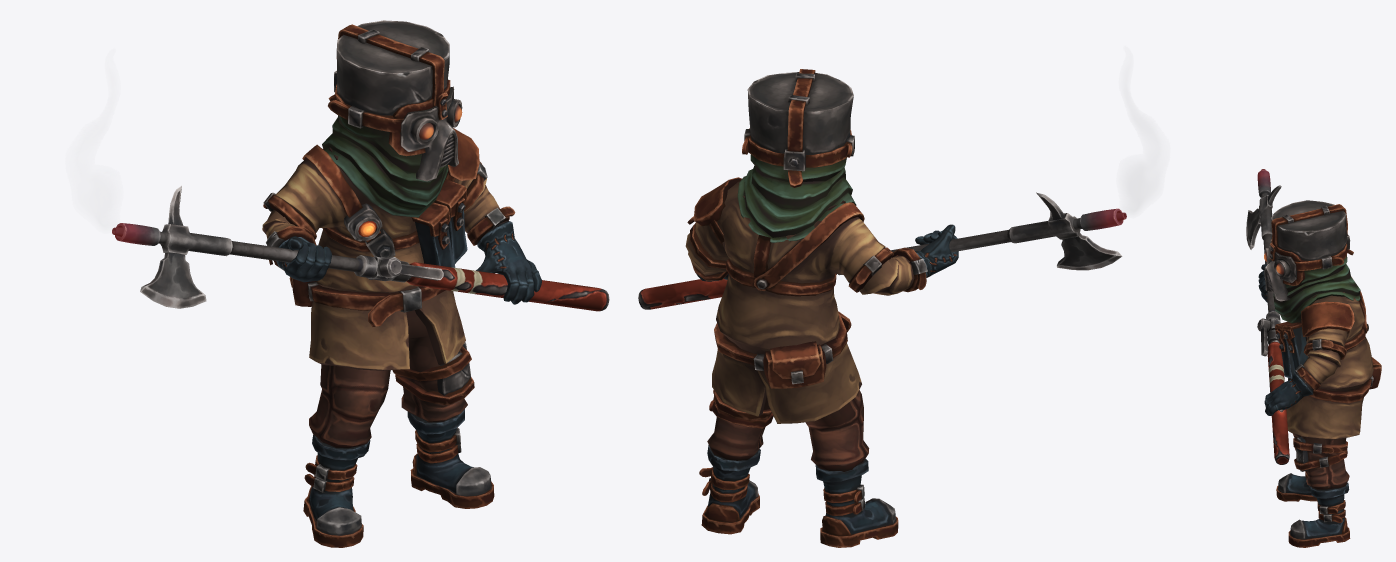
Rendered from Guard.glb.
3 views of the same model, side by side, from view 1: azimuth 30°, elevation 25°; view 2: azimuth 150°, elevation 25°; view 3: azimuth 270°, elevation 25° (orthographic). The views are drawn at different scales.
Parts seen in each view (by area): view 1: Avatar.001, Cylinder.000; view 2: Avatar.001, Cylinder.000; view 3: Avatar.001, Cylinder.000.
Part boxes in pixels (x1=…): Avatar.001: x1=262, y1=20, x2=541, y2=547; Cylinder.000: x1=112, y1=186, x2=609, y2=311; Avatar.001: x1=685, y1=69, x2=958, y2=547; Cylinder.000: x1=638, y1=192, x2=1126, y2=309; Avatar.001: x1=1258, y1=200, x2=1381, y2=547; Cylinder.000: x1=1246, y1=169, x2=1289, y2=464.
Bounding box in the file's own units: 6.15 × 5.61 × 1.84.
Materials: 3 (3 with a texture image).
